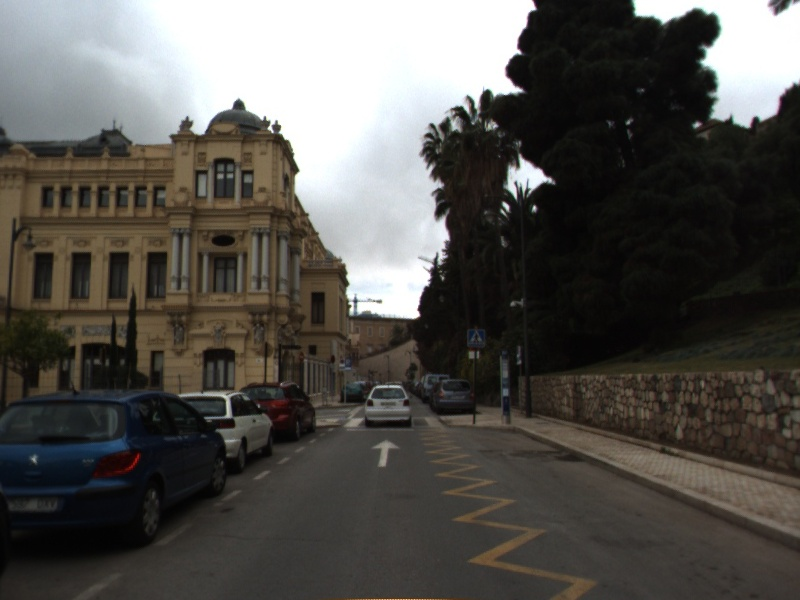STRAIGHT: (370, 438, 403, 469)
